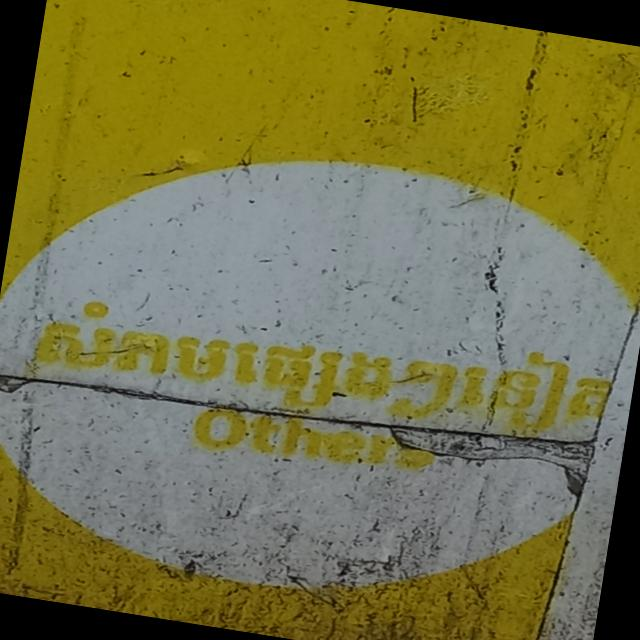Yolov11_80vkh: (22, 288, 632, 450)
